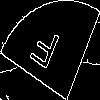F: (25, 24, 61, 79)
